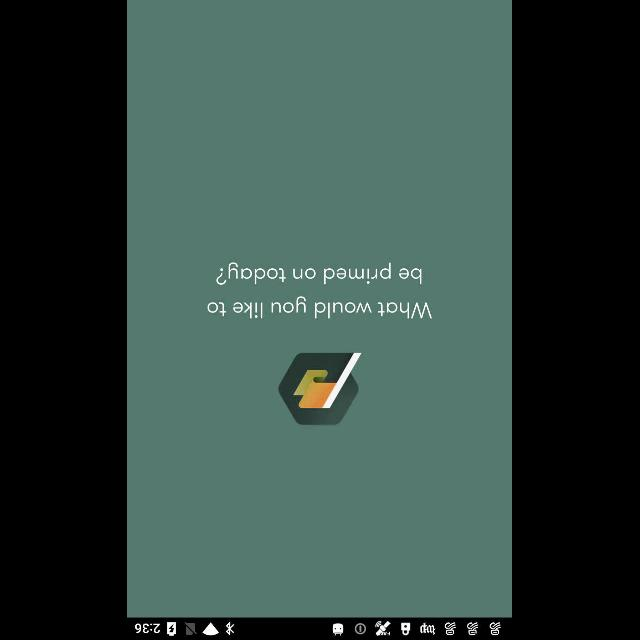image: (279, 352, 363, 426)
text: (208, 262, 434, 320)
uppertaskbar: (128, 617, 512, 639)
